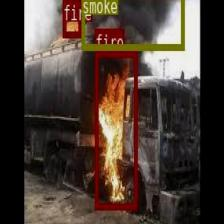fire: (94, 50, 137, 208), (62, 0, 80, 36)
smoke: (81, 0, 184, 48)
